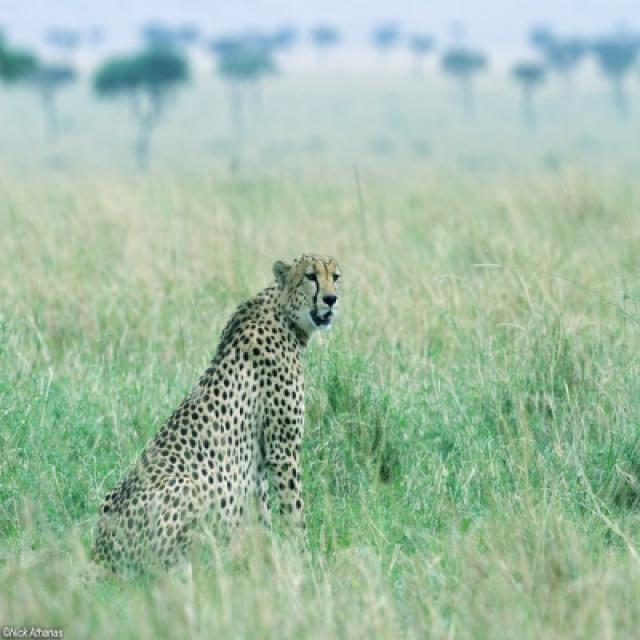Cheetah: (91, 255, 345, 591)
